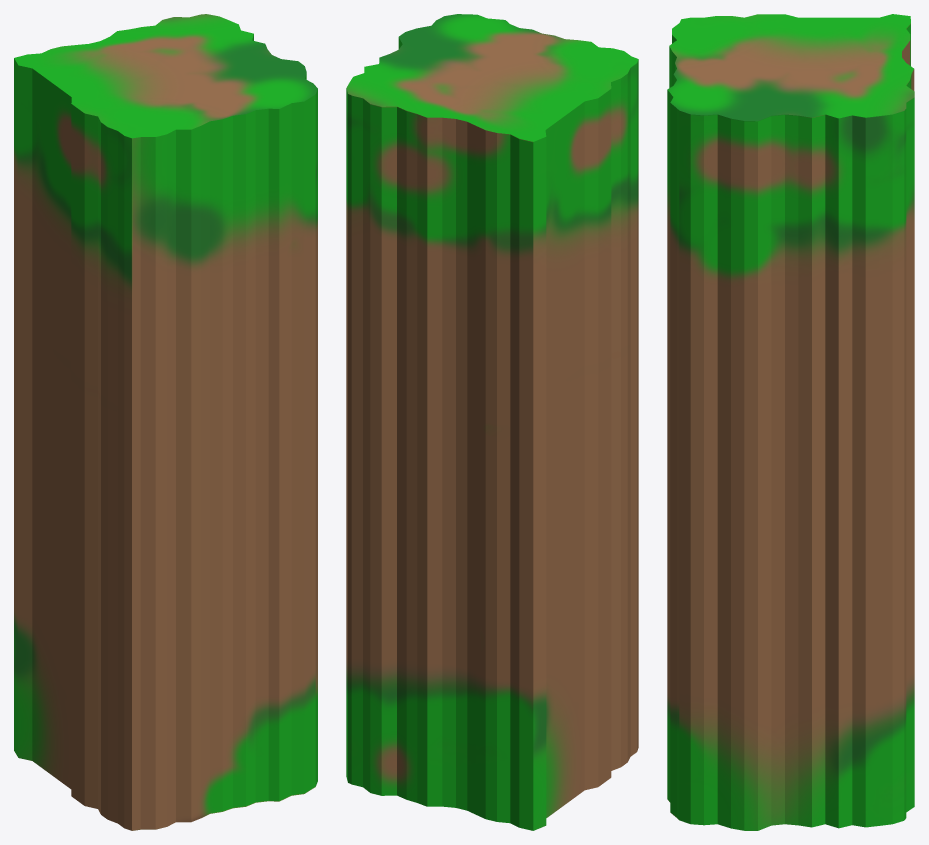
Rendered from tile.fbx.
The picture shows the model from 3 angles, left to right: view 1: azimuth 30°, elevation 25°; view 2: azimuth 150°, elevation 25°; view 3: azimuth 270°, elevation 25°; orthographic projection. The views are drawn at different scales.
Visible parts, largest first — view 1: Plane; view 2: Plane; view 3: Plane.
Part boxes in pixels (x1=…): Plane: x1=14, y1=14, x2=317, y2=830; Plane: x1=346, y1=14, x2=638, y2=830; Plane: x1=667, y1=14, x2=914, y2=830.
Bounding box in the file's own units: 2.21 × 6.84 × 2.16.
1 material, 1 textured.
